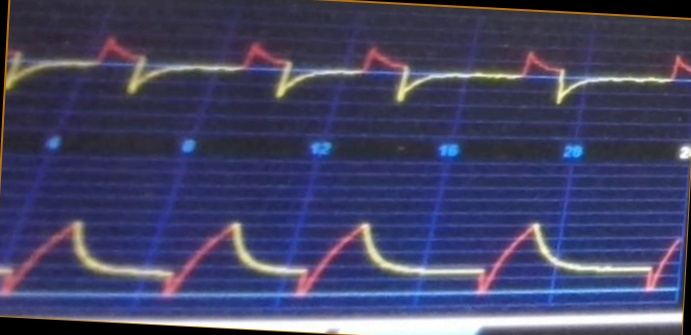Flow: (10, 24, 691, 130)
Leakage Volume: (1, 208, 682, 309)
